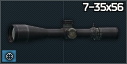Nightforce ATACR 7-35x56 riflescope: (0, 0, 127, 64)
